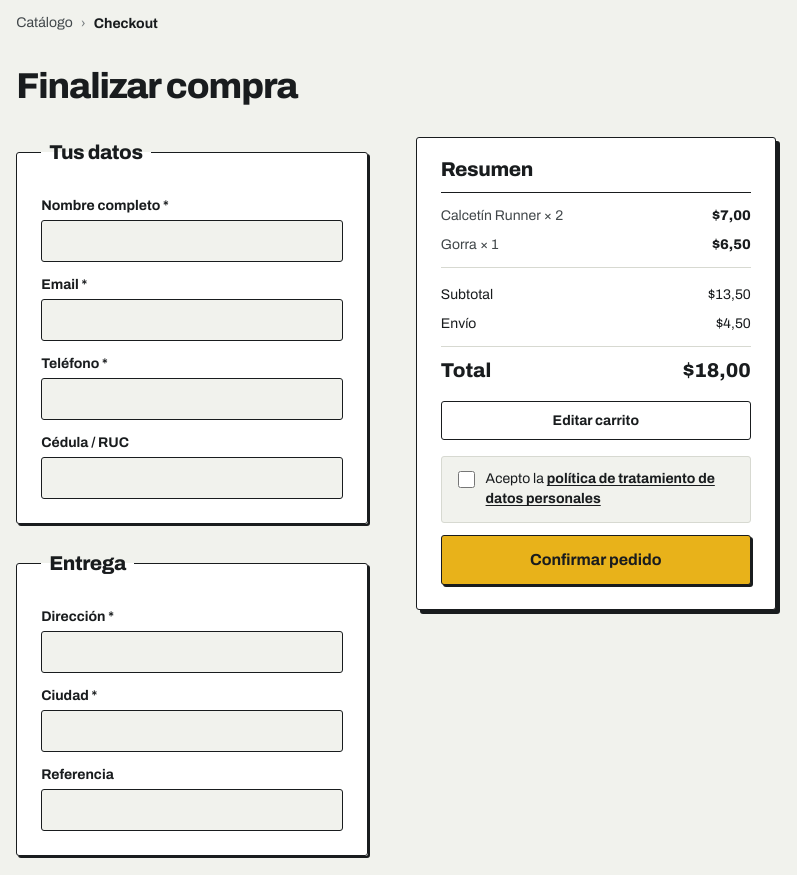
Test: CheckoutPage › mantiene el carrito y avisa cuando hay conflicto de stock
In the field labelled "Nombre completo *": (192, 241) [41,220,343,262], type "Ana Pérez"
In the field labelled "Email *": (192, 320) [41,299,343,341], type "ana@example.com"
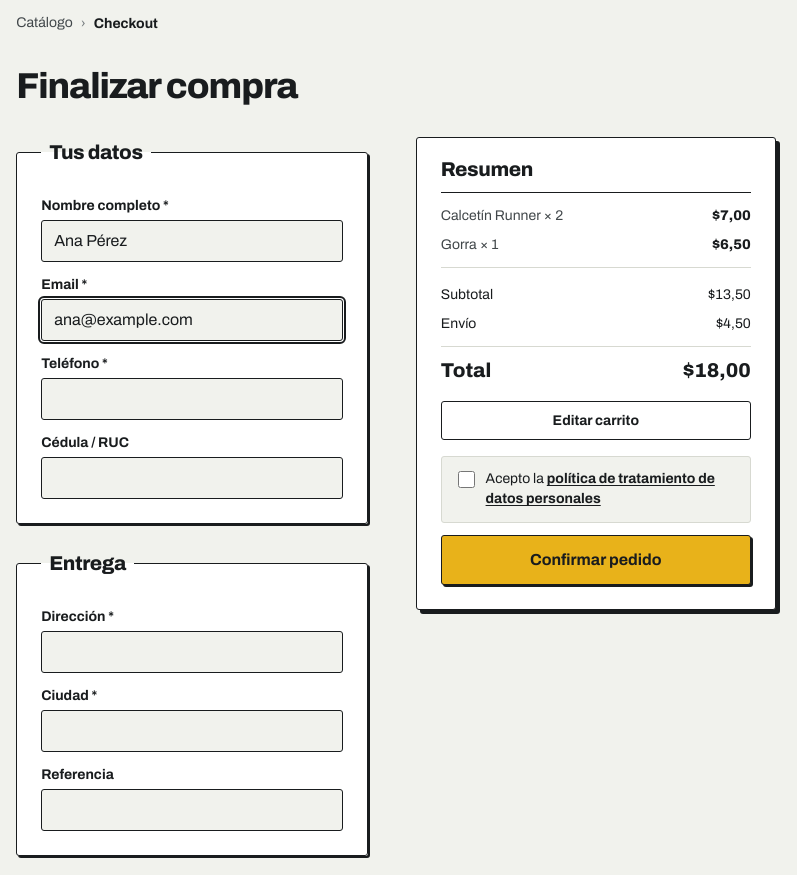
In the field labelled "Teléfono *": (192, 399) [41,378,343,420], type "0991234567"
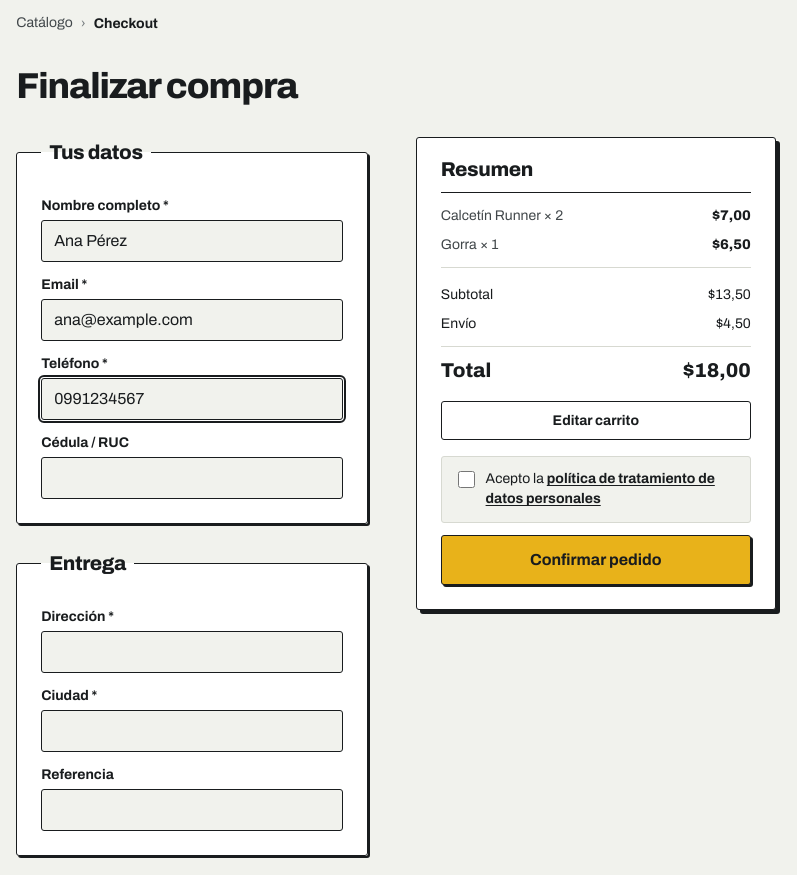
In the field labelled "Dirección *": (192, 652) [41,631,343,673], type "Av. Siempre Viva 123"
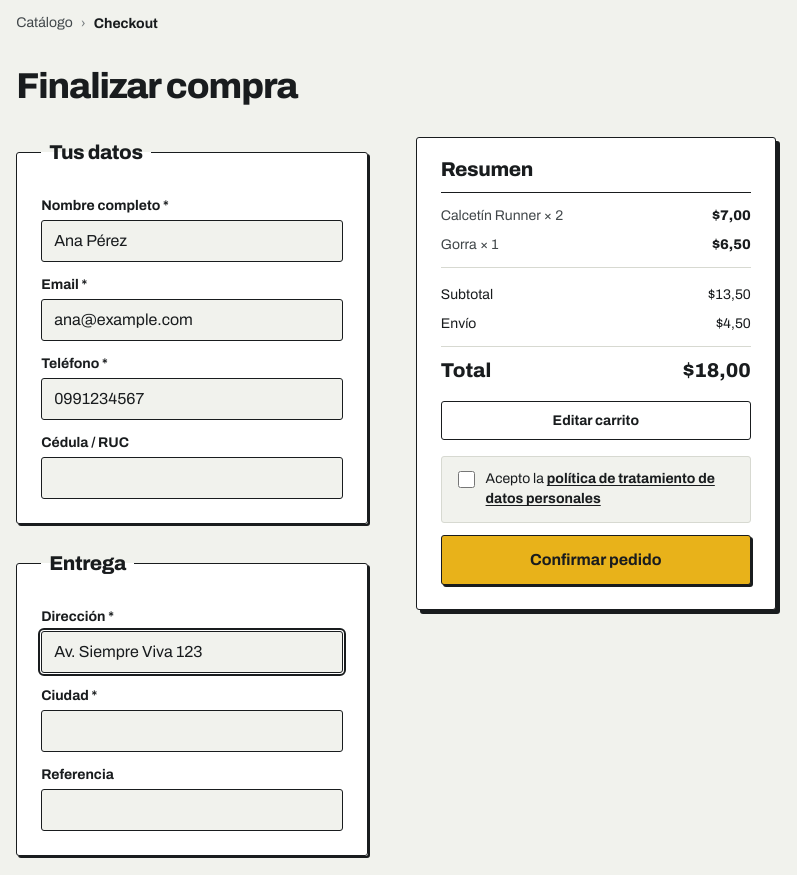
In the field labelled "Ciudad *": (192, 731) [41,710,343,752], type "Quito"
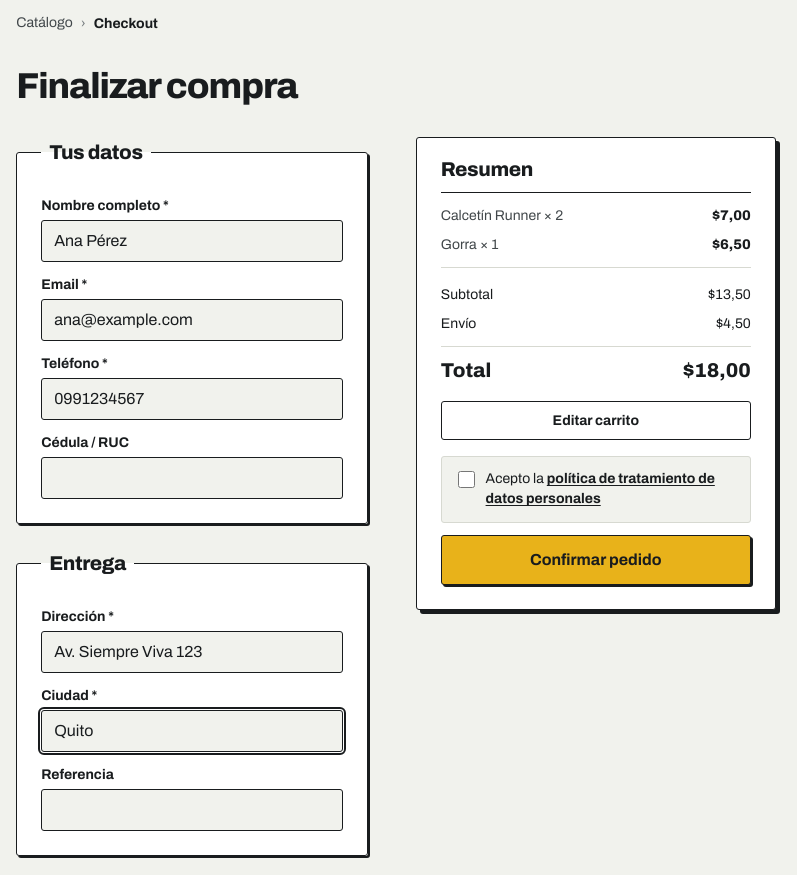
Click the checkbox labelled "Acepto la política de tratamiento de datos personales": (466, 479) [458,471,475,488]
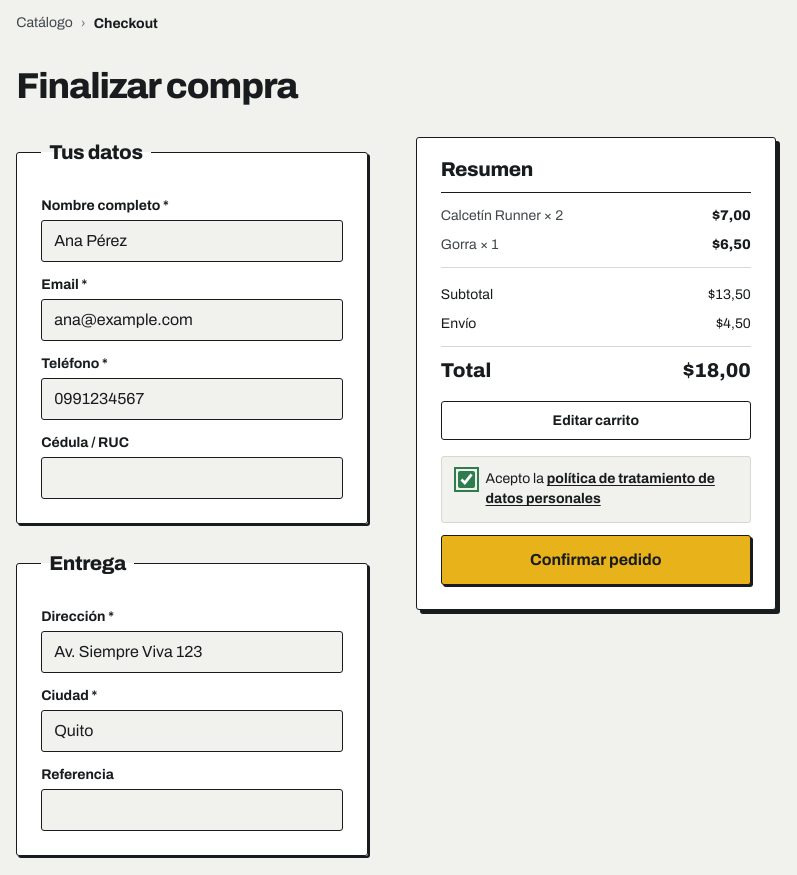
Click the button "Confirmar pedido": (596, 560) [441,535,751,585]
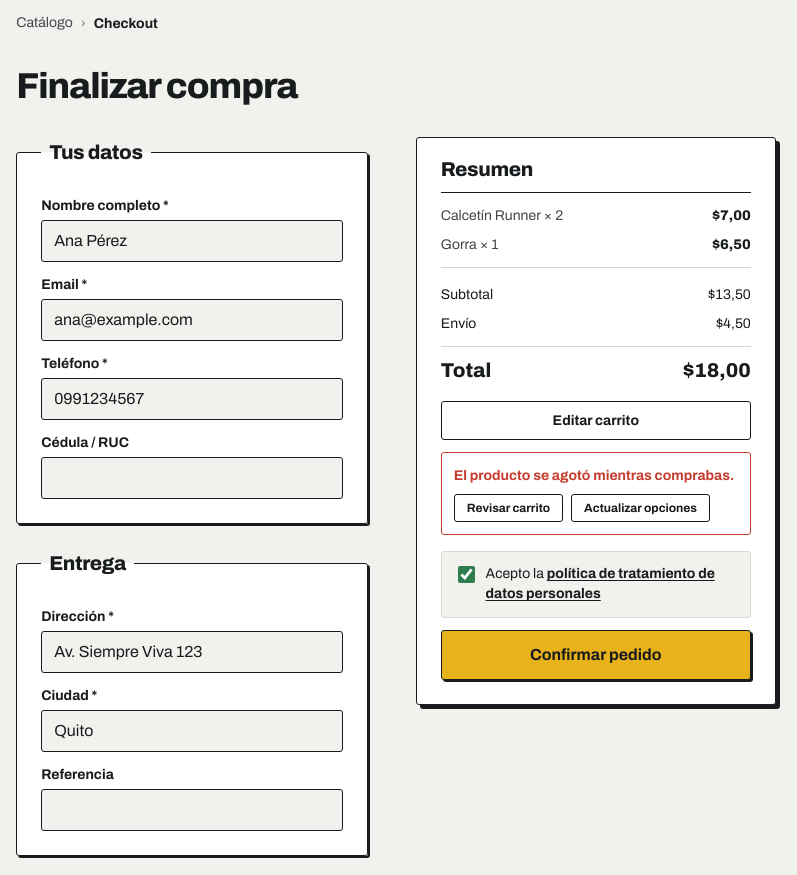
Now the text "El producto se agotó mientras comprabas." is shown, box [454,465,738,486]
Now the button "Revisar carrito" is shown, box [454,494,563,522]
